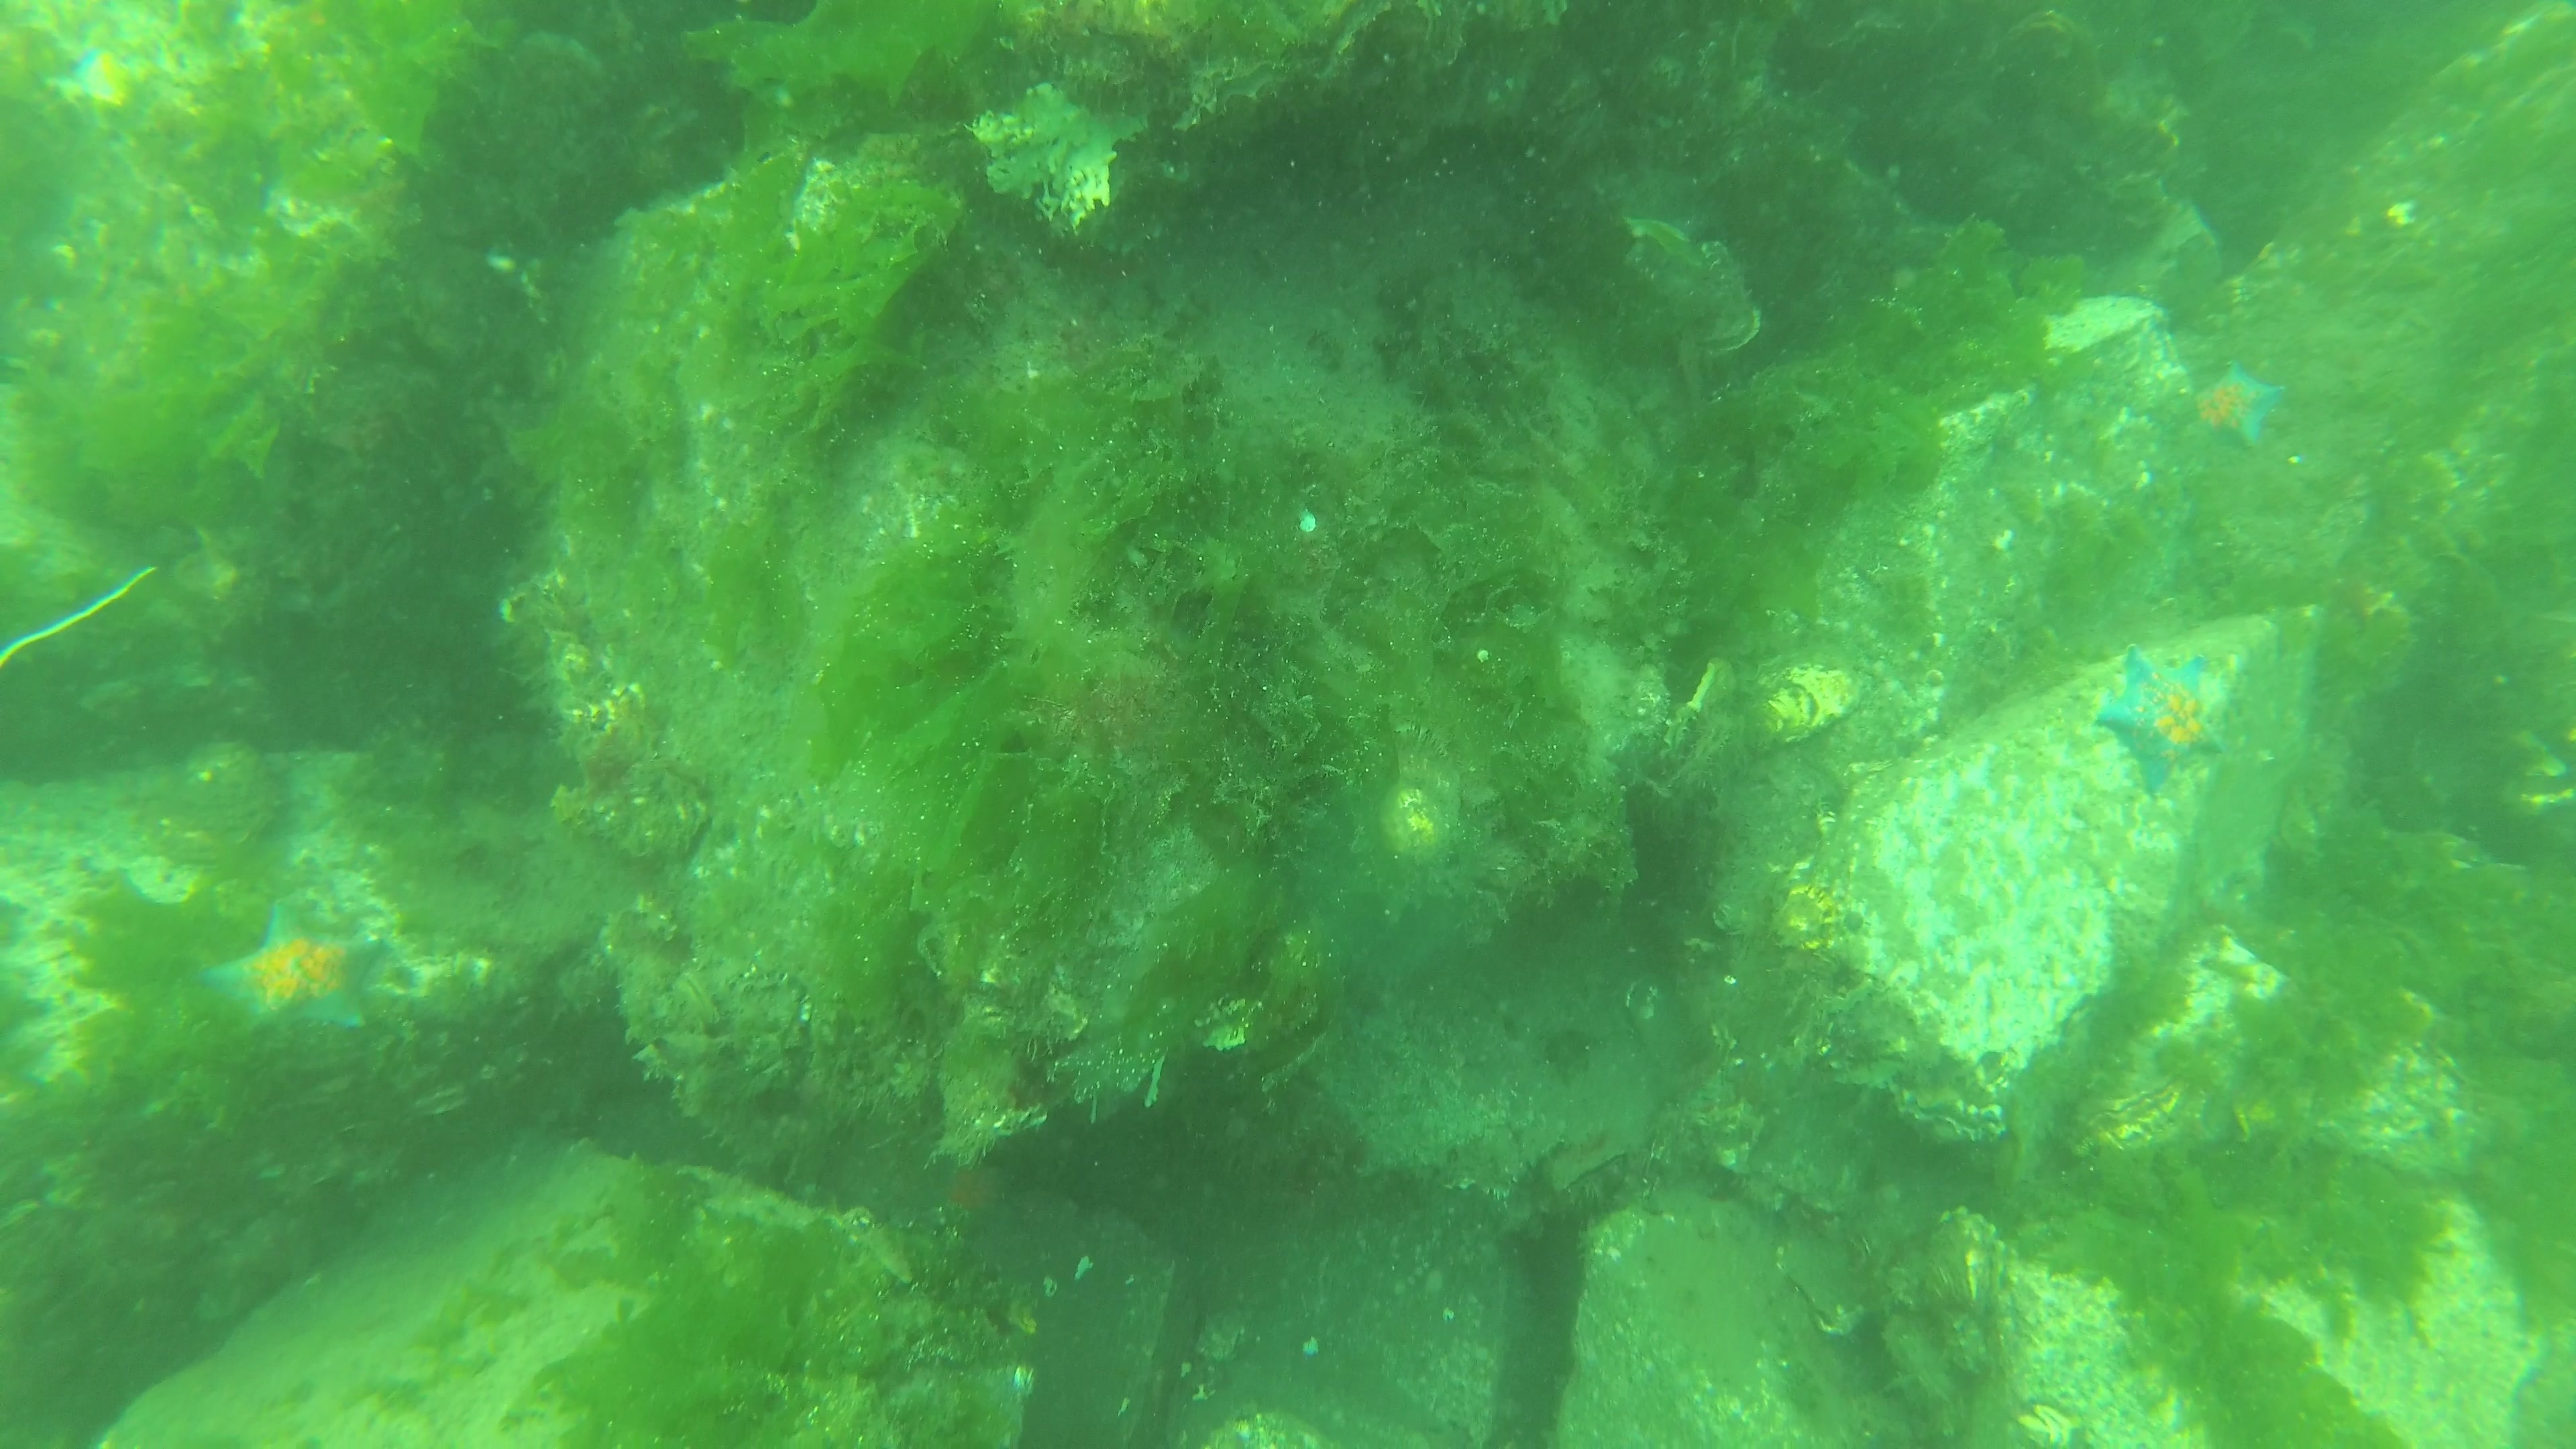starfish: (200, 897, 391, 1042), (2095, 639, 2229, 798), (2190, 359, 2289, 453)
